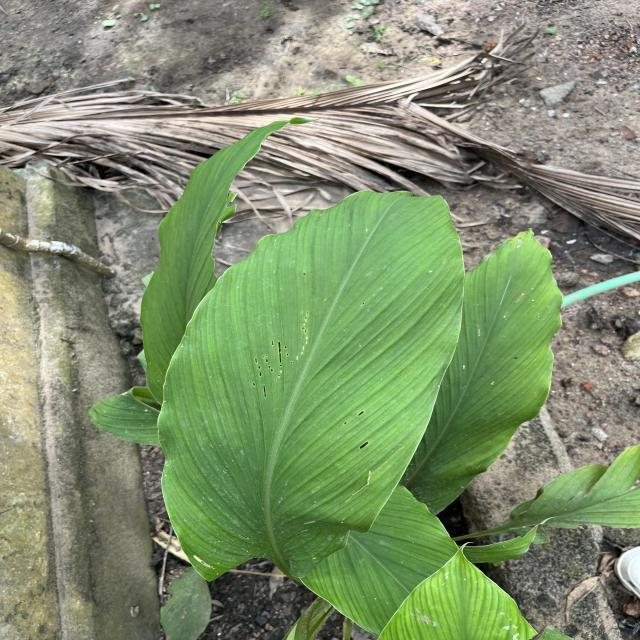Curcuma longa: (152, 184, 472, 589)
